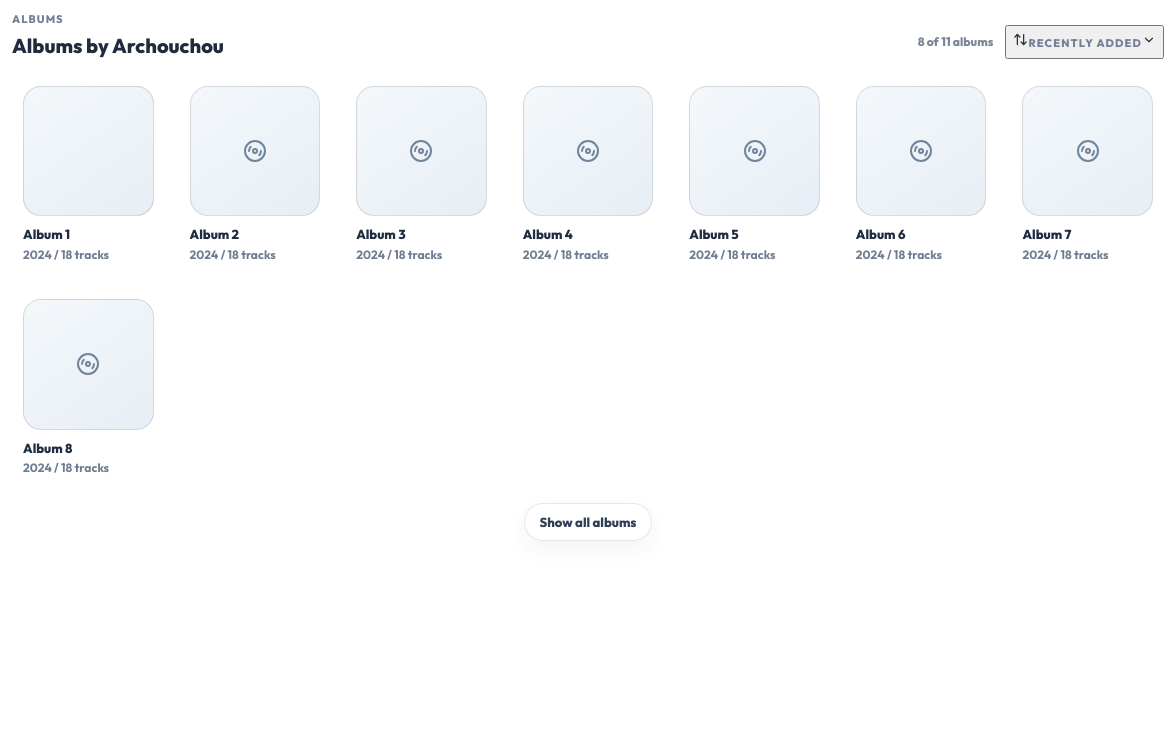
ArtistAlbumGrid › shows all artist albums when the artist count is larger than the loaded page
The width and height of the screenshot is (1176, 732).
Click the button "Show all albums": (588, 522) [524, 504, 652, 542]
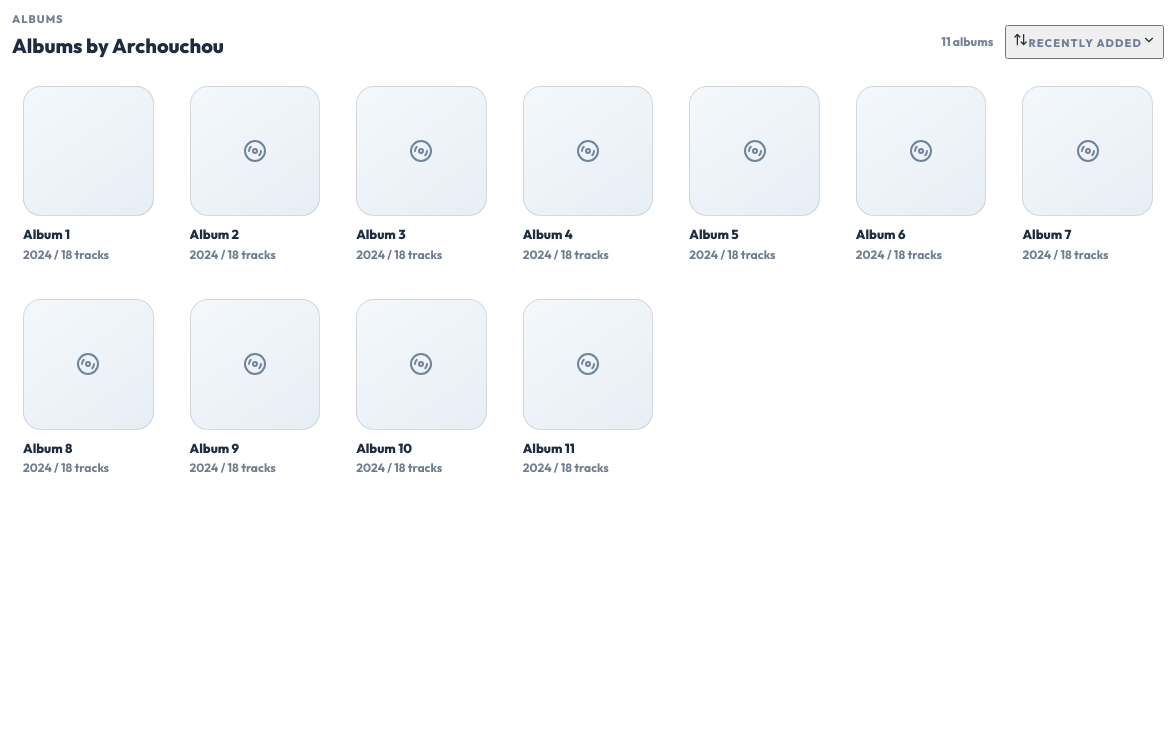
Now the button "Album 11 2024 / 18 tracks" is shown, box [512, 288, 664, 488]
Now the number of buttons with class "artist-album-card" is 11
